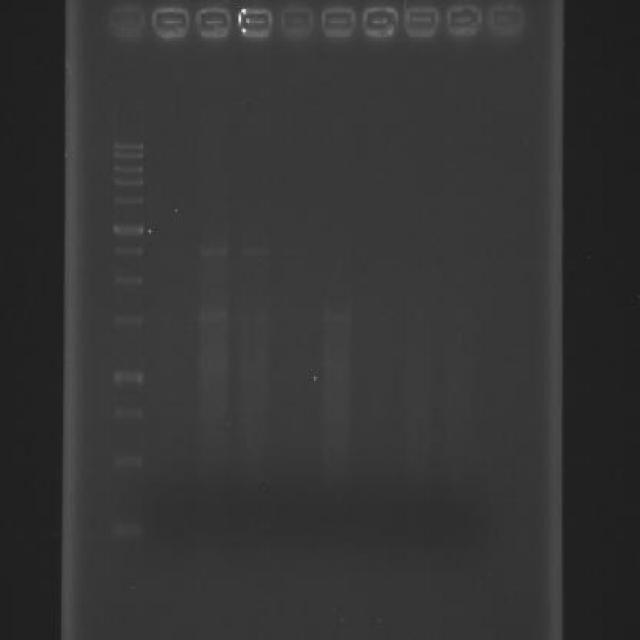B: (196, 306, 230, 326), (238, 243, 272, 260), (198, 242, 230, 260), (322, 308, 352, 324)
L: (90, 0, 536, 55)
M: (95, 126, 152, 556)
P: (102, 515, 150, 543), (108, 364, 147, 390), (105, 452, 148, 474), (110, 306, 148, 329), (108, 402, 144, 426), (108, 192, 146, 211), (108, 239, 144, 258), (110, 269, 146, 288), (108, 219, 148, 236), (109, 160, 145, 176), (110, 174, 144, 189), (109, 137, 145, 151), (109, 148, 143, 160)
Pc: (104, 2, 148, 47), (150, 4, 193, 46), (233, 3, 276, 45), (360, 2, 400, 46), (276, 4, 316, 46), (316, 2, 358, 42), (487, 1, 527, 42), (193, 4, 233, 44), (444, 2, 484, 42), (401, 4, 441, 42)
